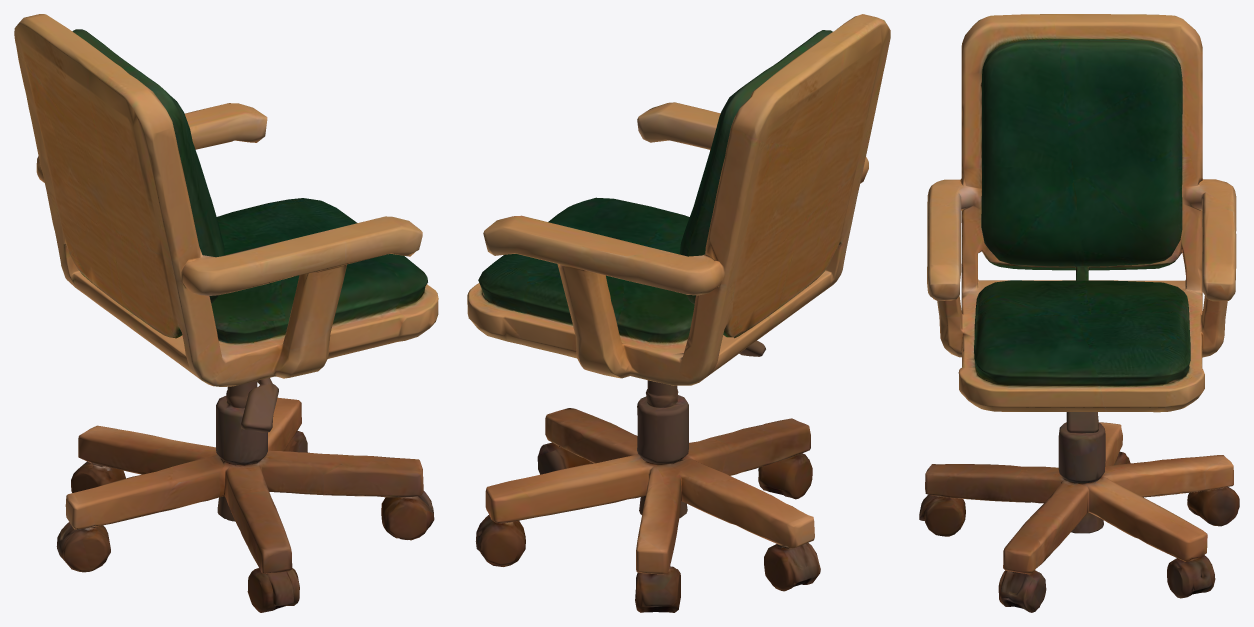
The model's file is chair.glb.
3 renders of one model, left to right at view 1: azimuth 30°, elevation 25°; view 2: azimuth 150°, elevation 25°; view 3: azimuth 270°, elevation 25°, orthographic. The views are drawn at different scales.
Visible parts, largest first — view 1: tripo_node_c4c8bec1-f2d2-4804-8b0b-420d4653635e; view 2: tripo_node_c4c8bec1-f2d2-4804-8b0b-420d4653635e; view 3: tripo_node_c4c8bec1-f2d2-4804-8b0b-420d4653635e.
Part boxes in pixels (x1,y1,x2,y2): tripo_node_c4c8bec1-f2d2-4804-8b0b-420d4653635e: (14, 14, 438, 612); tripo_node_c4c8bec1-f2d2-4804-8b0b-420d4653635e: (467, 14, 890, 612); tripo_node_c4c8bec1-f2d2-4804-8b0b-420d4653635e: (919, 14, 1239, 612).
Size of the model in its own units: 0.646 by 1 by 0.6224.
Materials: 1 (1 with a texture image).
